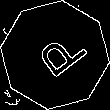P_SW: (24, 25, 86, 85)
